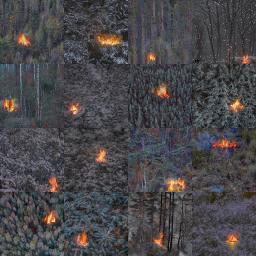Small fire: (212, 135, 240, 152), (95, 31, 124, 47), (166, 175, 189, 194), (0, 95, 18, 115), (150, 82, 170, 100), (45, 175, 62, 195), (42, 209, 60, 227), (73, 230, 91, 248), (222, 231, 239, 248), (92, 148, 108, 166), (15, 32, 32, 48), (228, 98, 245, 112), (152, 232, 166, 248), (67, 102, 81, 117), (239, 52, 253, 66), (145, 50, 158, 63)
